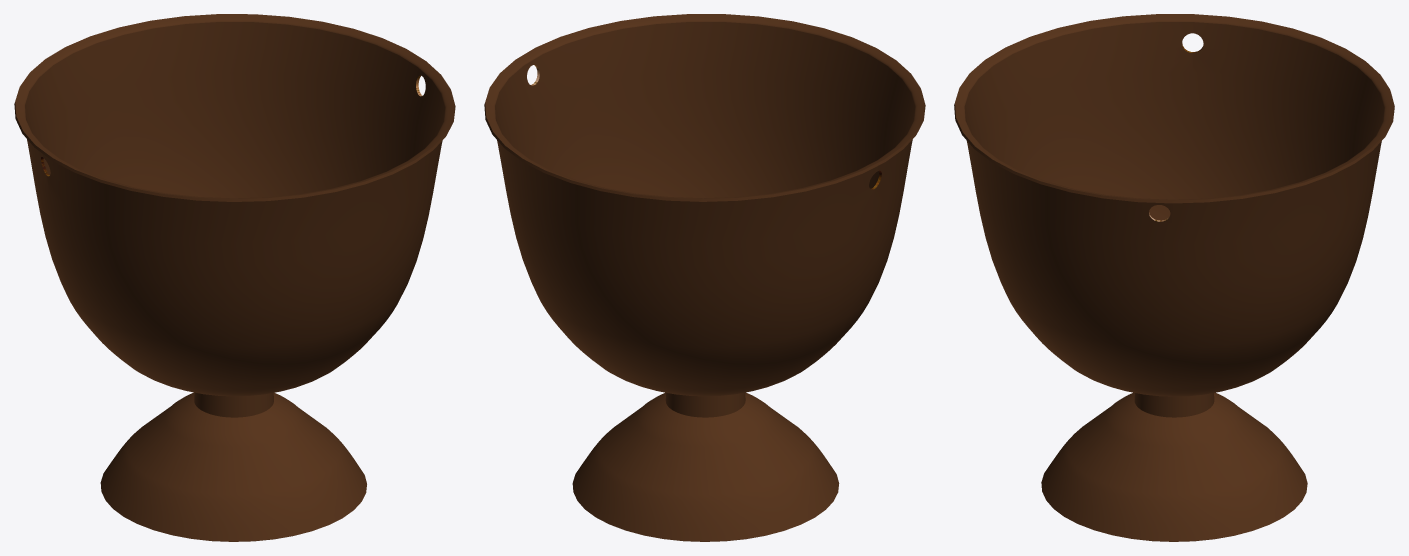
File: _baso.FBX
3 renders of one model, left to right at view 1: azimuth 30°, elevation 25°; view 2: azimuth 150°, elevation 25°; view 3: azimuth 270°, elevation 25°, orthographic.
Parts seen in each view (by area): view 1: Line001; view 2: Line001; view 3: Line001.
Part boxes in pixels (box(x1,y1,x2,y2)): Line001: box(14, 14, 455, 541); Line001: box(484, 14, 925, 541); Line001: box(954, 14, 1394, 541).
Size of the model in its own units: 55.64 by 53.04 by 55.67.
